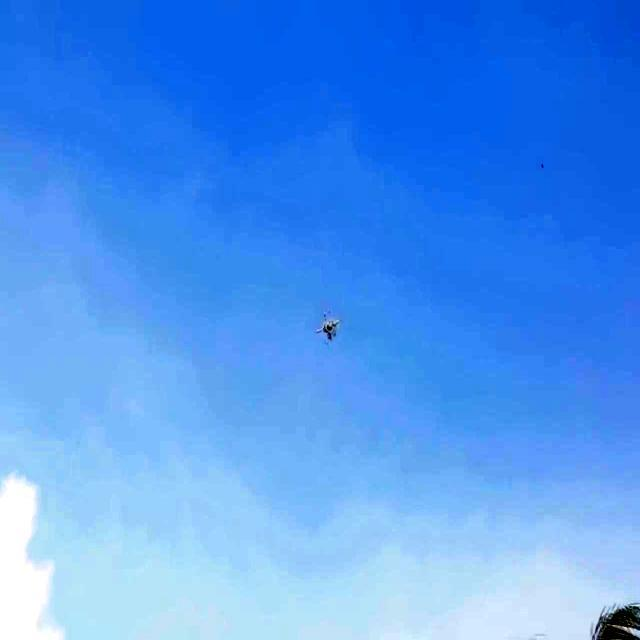drone: (318, 311, 340, 344)
